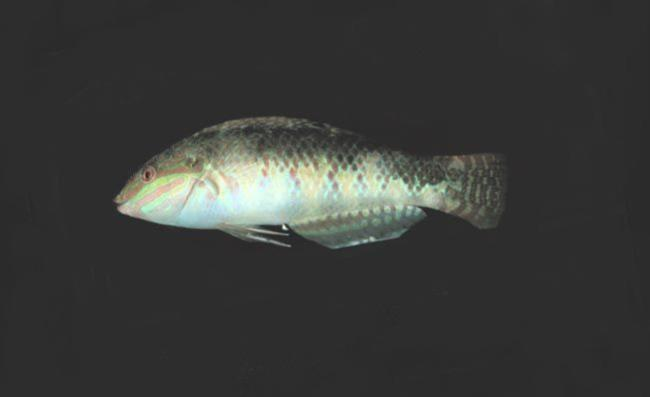fish: (113, 117, 510, 249)
